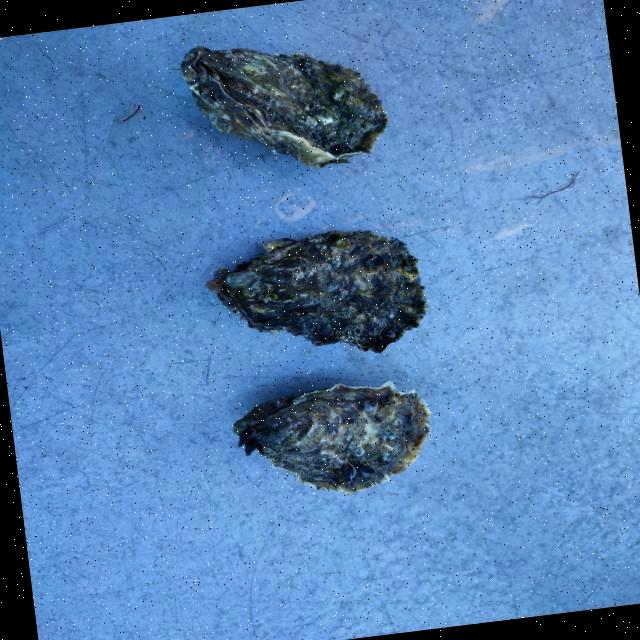Oyster-Open: (208, 231, 425, 352), (181, 46, 388, 167), (235, 384, 430, 491)
